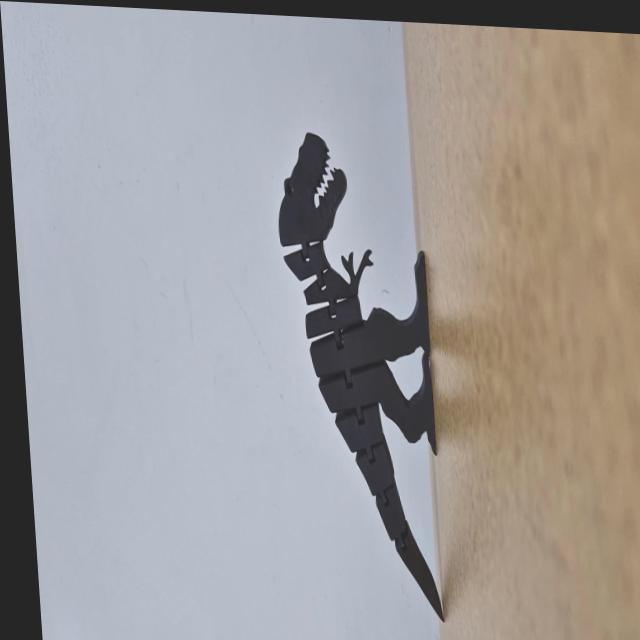dino: (271, 129, 450, 623)
